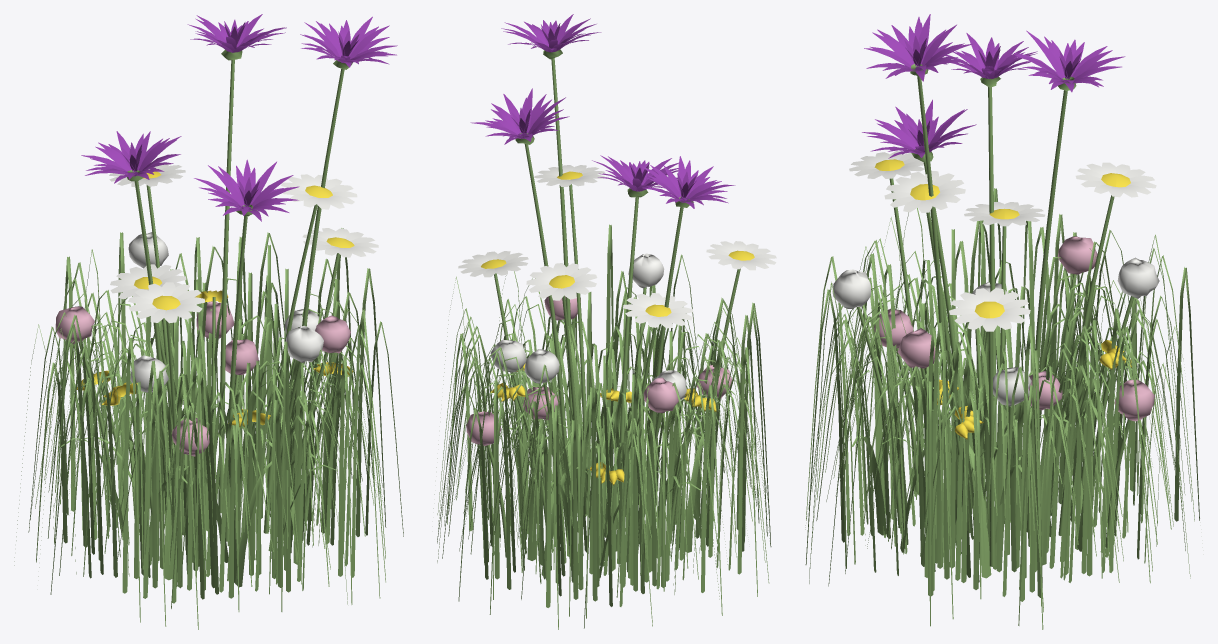
File: nectar-patch-v1.glb
The picture shows the model from 3 angles, left to right: view 1: azimuth 30°, elevation 25°; view 2: azimuth 150°, elevation 25°; view 3: azimuth 270°, elevation 25°; orthographic projection. The views are drawn at different scales.
Parts seen in each view (by area): view 1: clover, knapweed, daisies; view 2: clover, knapweed, daisies; view 3: clover, knapweed, daisies.
Part boxes in pixels (x1,y1,x2,y2): clover: (14, 50, 403, 629); knapweed: (81, 14, 397, 221); daisies: (76, 171, 354, 427); clover: (433, 49, 776, 629); knapweed: (470, 14, 735, 208); daisies: (481, 171, 754, 485); clover: (805, 64, 1199, 629); knapweed: (862, 14, 1125, 158); daisies: (874, 159, 1131, 439).
Size of the model in its own units: 0.2408 by 0.361 by 0.2334.
Materials: 4 (4 with a texture image).
